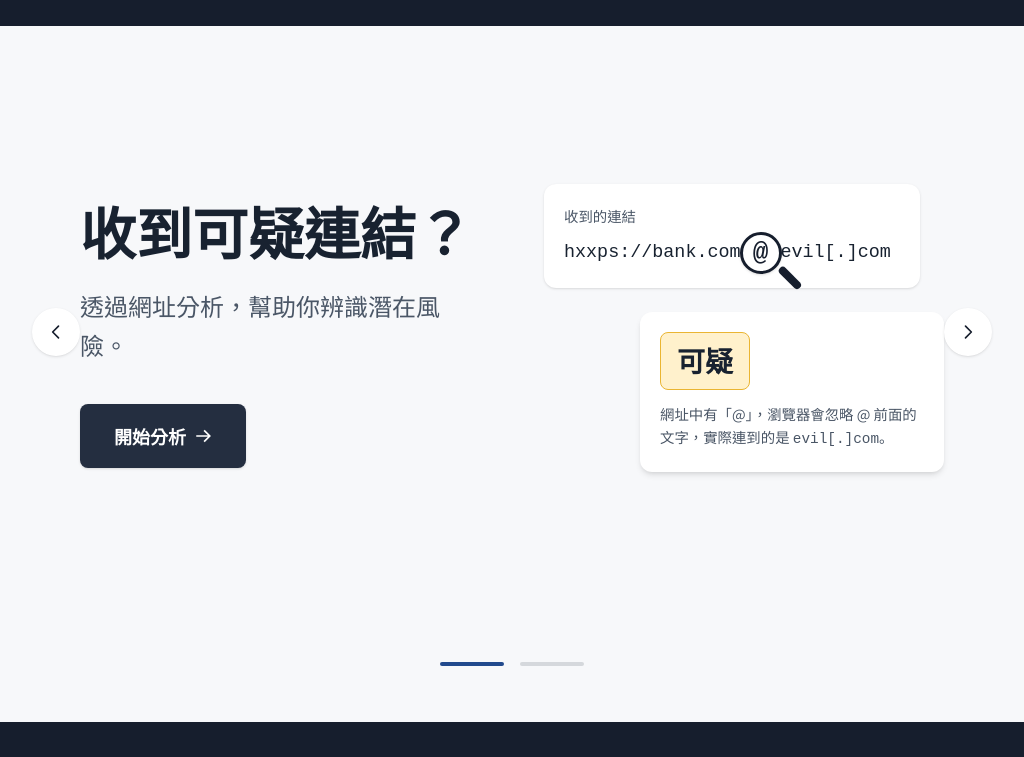
Scenario: 首頁主視覺輪播 › 自動輪播（插畫動畫播完後 8 秒） › 滑鼠停在主視覺上時不換張，移開後重新計時
The width and height of the screenshot is (1024, 757).
(page scrolled)
Hover over the element named "駭你好".
mouse_move(512, 374)  # box x1=0 y1=26 x2=1023 y2=722
Expected: the text "收到可疑連結？" is shown, x1=80 y1=196 x2=480 y2=266
Move the pointer off the element named "駭你好"
Wait 10800 ms
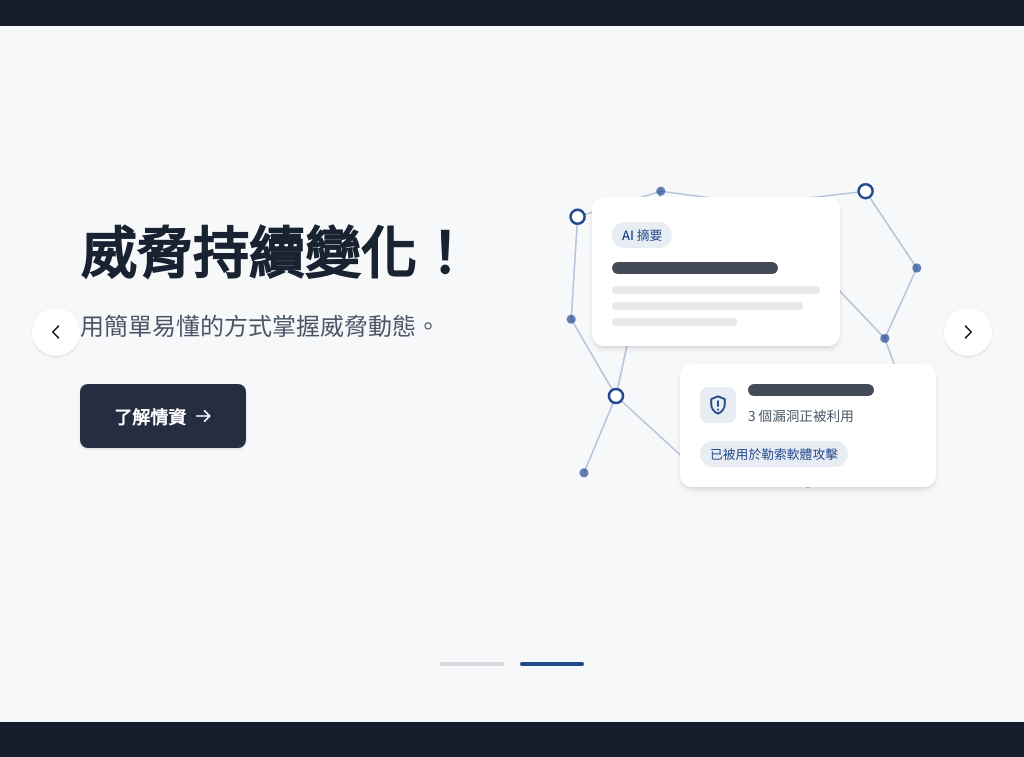
Expected: the text "威脅持續變化！" is shown, x1=80 y1=215 x2=480 y2=285
